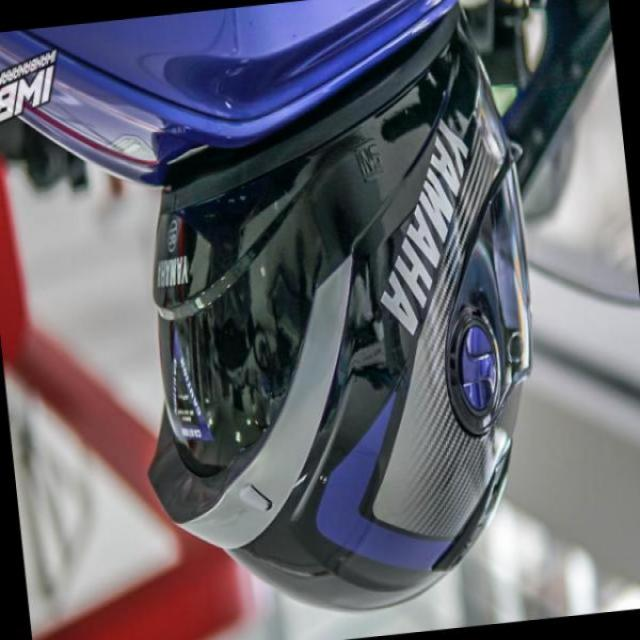Helmet: (129, 149, 553, 575)
